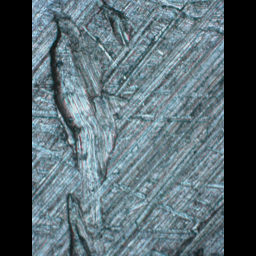d: (45, 1, 143, 255)
